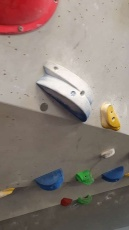Hand Start: (38, 101, 50, 112)
Jug: (78, 193, 92, 205)
Pinch: (37, 62, 93, 123), (34, 167, 64, 191), (101, 165, 124, 182)
